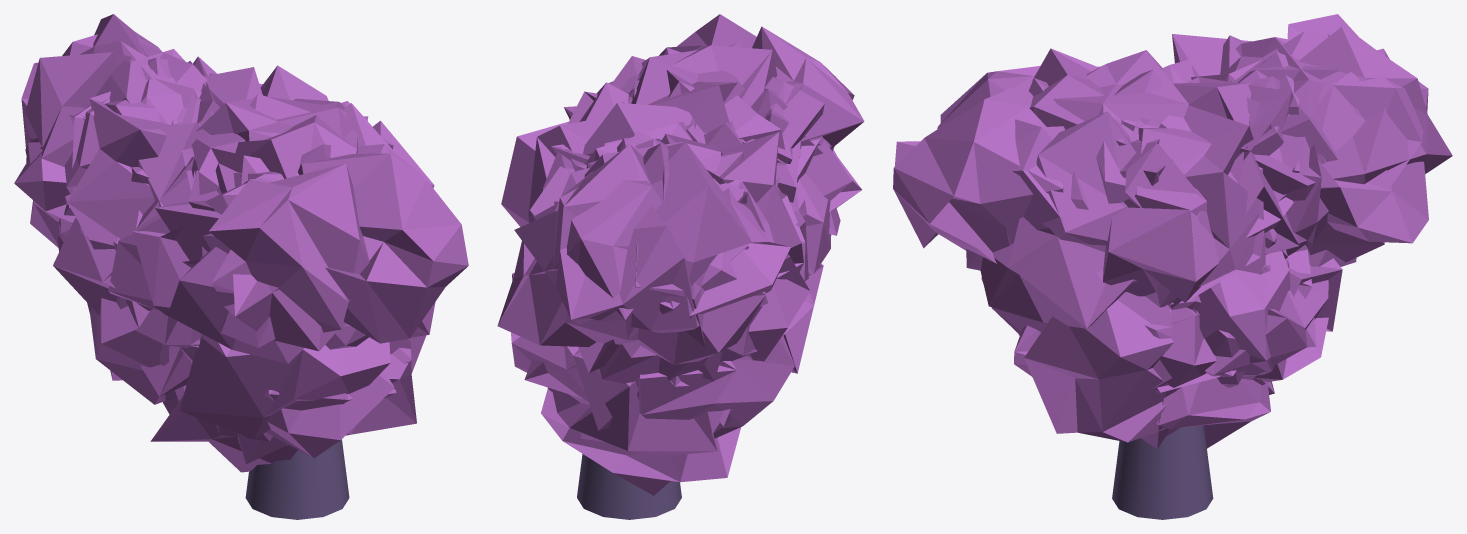
The model's file is tree_alien_hf.glb.
3 renders of one model, left to right at view 1: azimuth 30°, elevation 25°; view 2: azimuth 150°, elevation 25°; view 3: azimuth 270°, elevation 25°, orthographic. The views are drawn at different scales.
Parts seen in each view (by area): view 1: tree_alien_v1; view 2: tree_alien_v1; view 3: tree_alien_v1.
Boxes of the visible parts, x1,y1,x2,y2 form: tree_alien_v1: (14, 14, 468, 519); tree_alien_v1: (497, 14, 864, 519); tree_alien_v1: (893, 14, 1452, 519).
Size of the model in its own units: 2.57 by 3.27 by 3.87.
